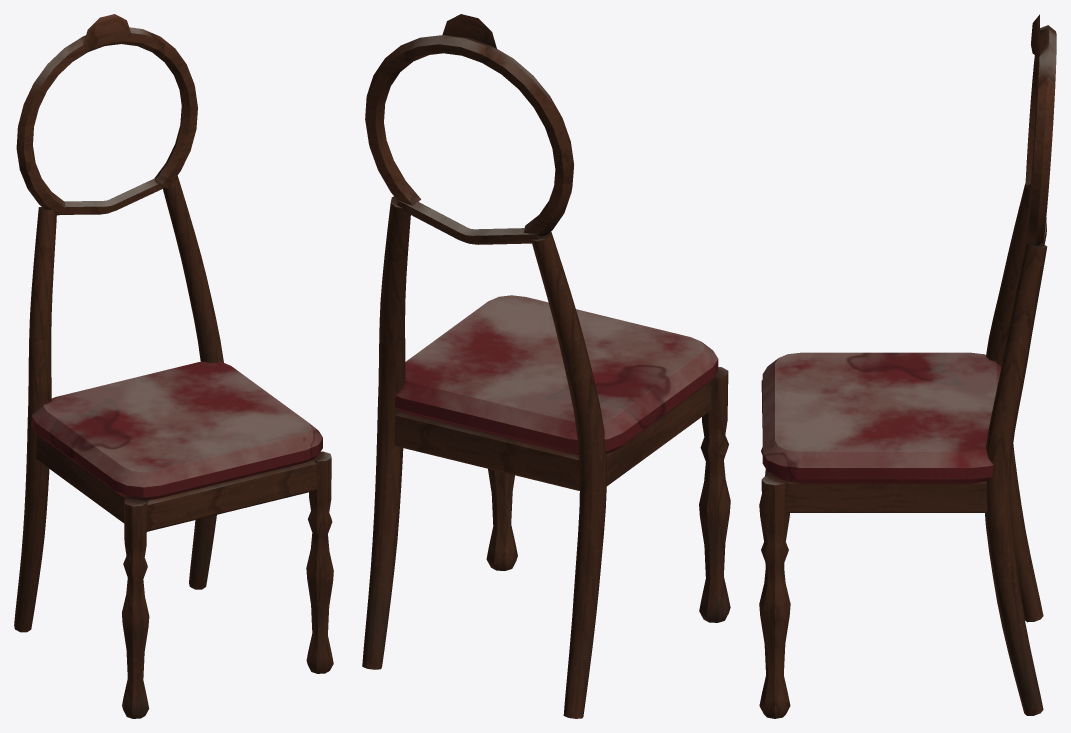
Rendered from DiningChair.fbx.
3 renders of one model, left to right at view 1: azimuth 30°, elevation 25°; view 2: azimuth 150°, elevation 25°; view 3: azimuth 270°, elevation 25°, orthographic. The views are drawn at different scales.
Parts seen in each view (by area): view 1: DiningChair; view 2: DiningChair; view 3: DiningChair.
Part boxes in pixels (x1=…): DiningChair: x1=14, y1=14, x2=333, y2=718; DiningChair: x1=362, y1=14, x2=730, y2=718; DiningChair: x1=759, y1=14, x2=1056, y2=718.
Size of the model in its own units: 1.29 by 3.48 by 1.45.
Materials: 1 (1 with a texture image).
